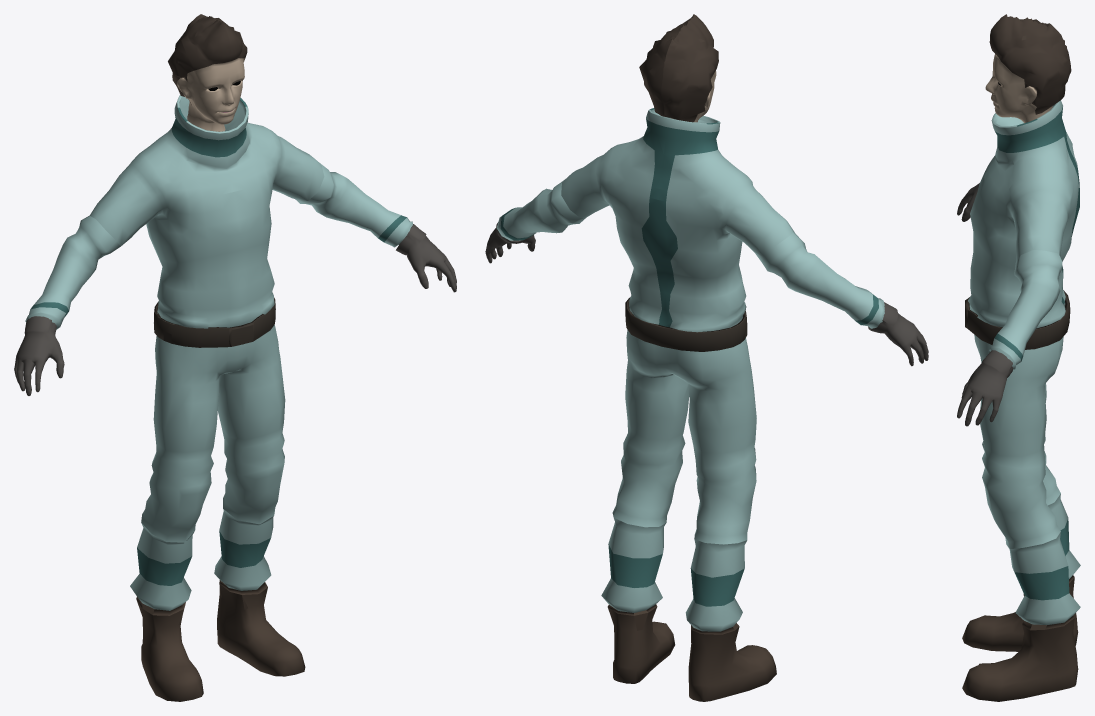
Rendered from character1.fbx.
3 renders of one model, left to right at view 1: azimuth 30°, elevation 25°; view 2: azimuth 150°, elevation 25°; view 3: azimuth 270°, elevation 25°, orthographic.
Parts seen in each view (by area): view 1: EthanBody; view 2: EthanBody; view 3: EthanBody.
Part boxes in pixels (left/top/right/bottom): EthanBody: left=14, top=14, right=456, bottom=701; EthanBody: left=485, top=14, right=928, bottom=701; EthanBody: left=957, top=14, right=1080, bottom=701.
Size of the model in its own units: 108 by 156 by 26.71.
